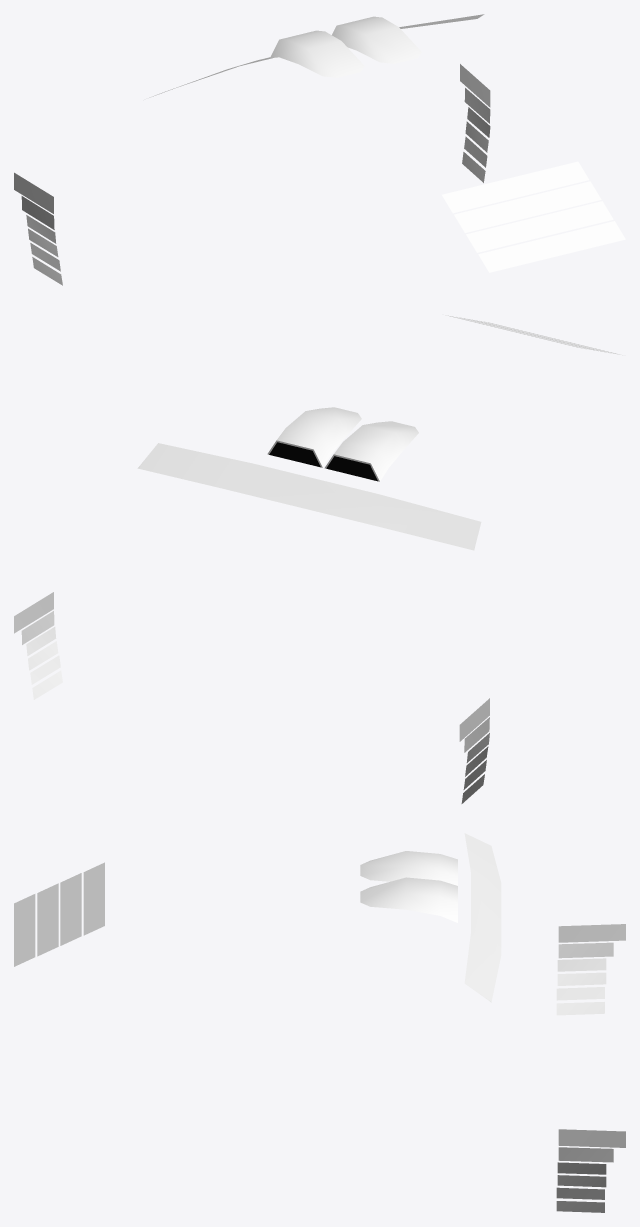
3 renders of one model, top to bottom at view 1: azimuth 30°, elevation 25°; view 2: azimuth 150°, elevation 25°; view 3: azimuth 270°, elevation 25°, orthographic. The views are drawn at different scales.
Visible parts, largest first — view 1: rf_c_s; view 2: rf_c_s; view 3: rf_c_s.
Part boxes in pixels (box(x1,y1,x2,y2)): rf_c_s: box(14, 14, 625, 285); rf_c_s: box(14, 315, 622, 803); rf_c_s: box(14, 833, 625, 1212).
Bounding box in the file's own units: 2.16 × 1.17 × 2.69.
3 materials, 3 textured.
